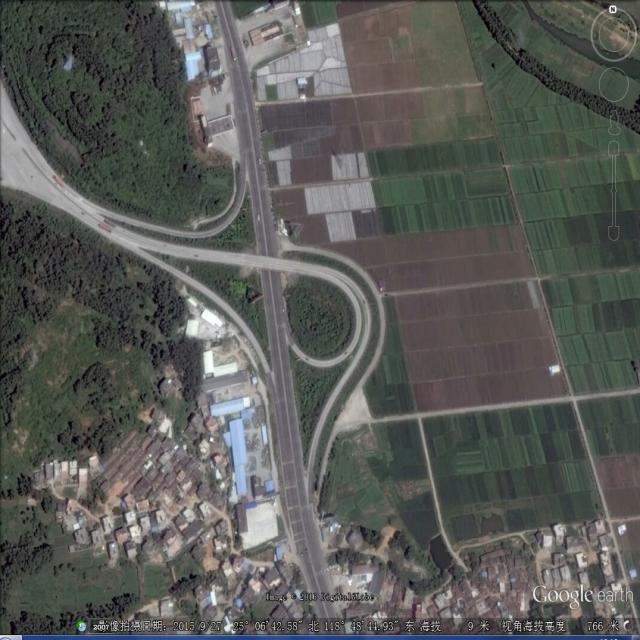overpass: (95, 151, 376, 506)
